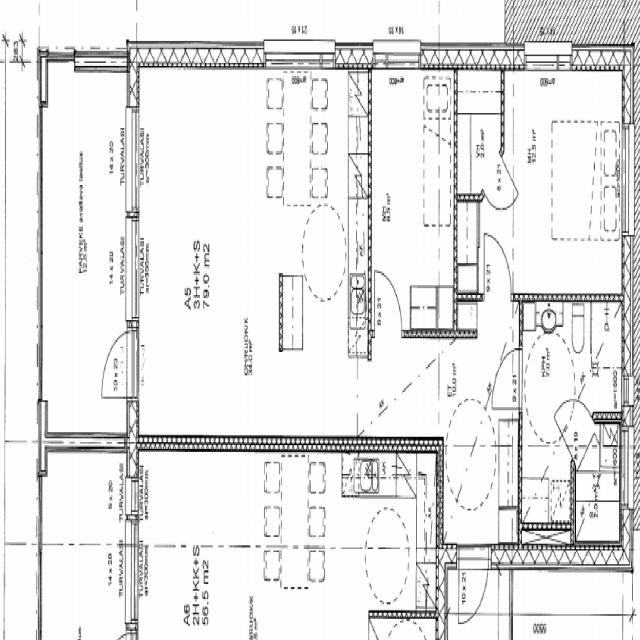door: (554, 374, 595, 465), (482, 153, 519, 235), (96, 330, 139, 397), (458, 543, 488, 635), (374, 268, 402, 338), (491, 349, 522, 409), (484, 234, 511, 301)
